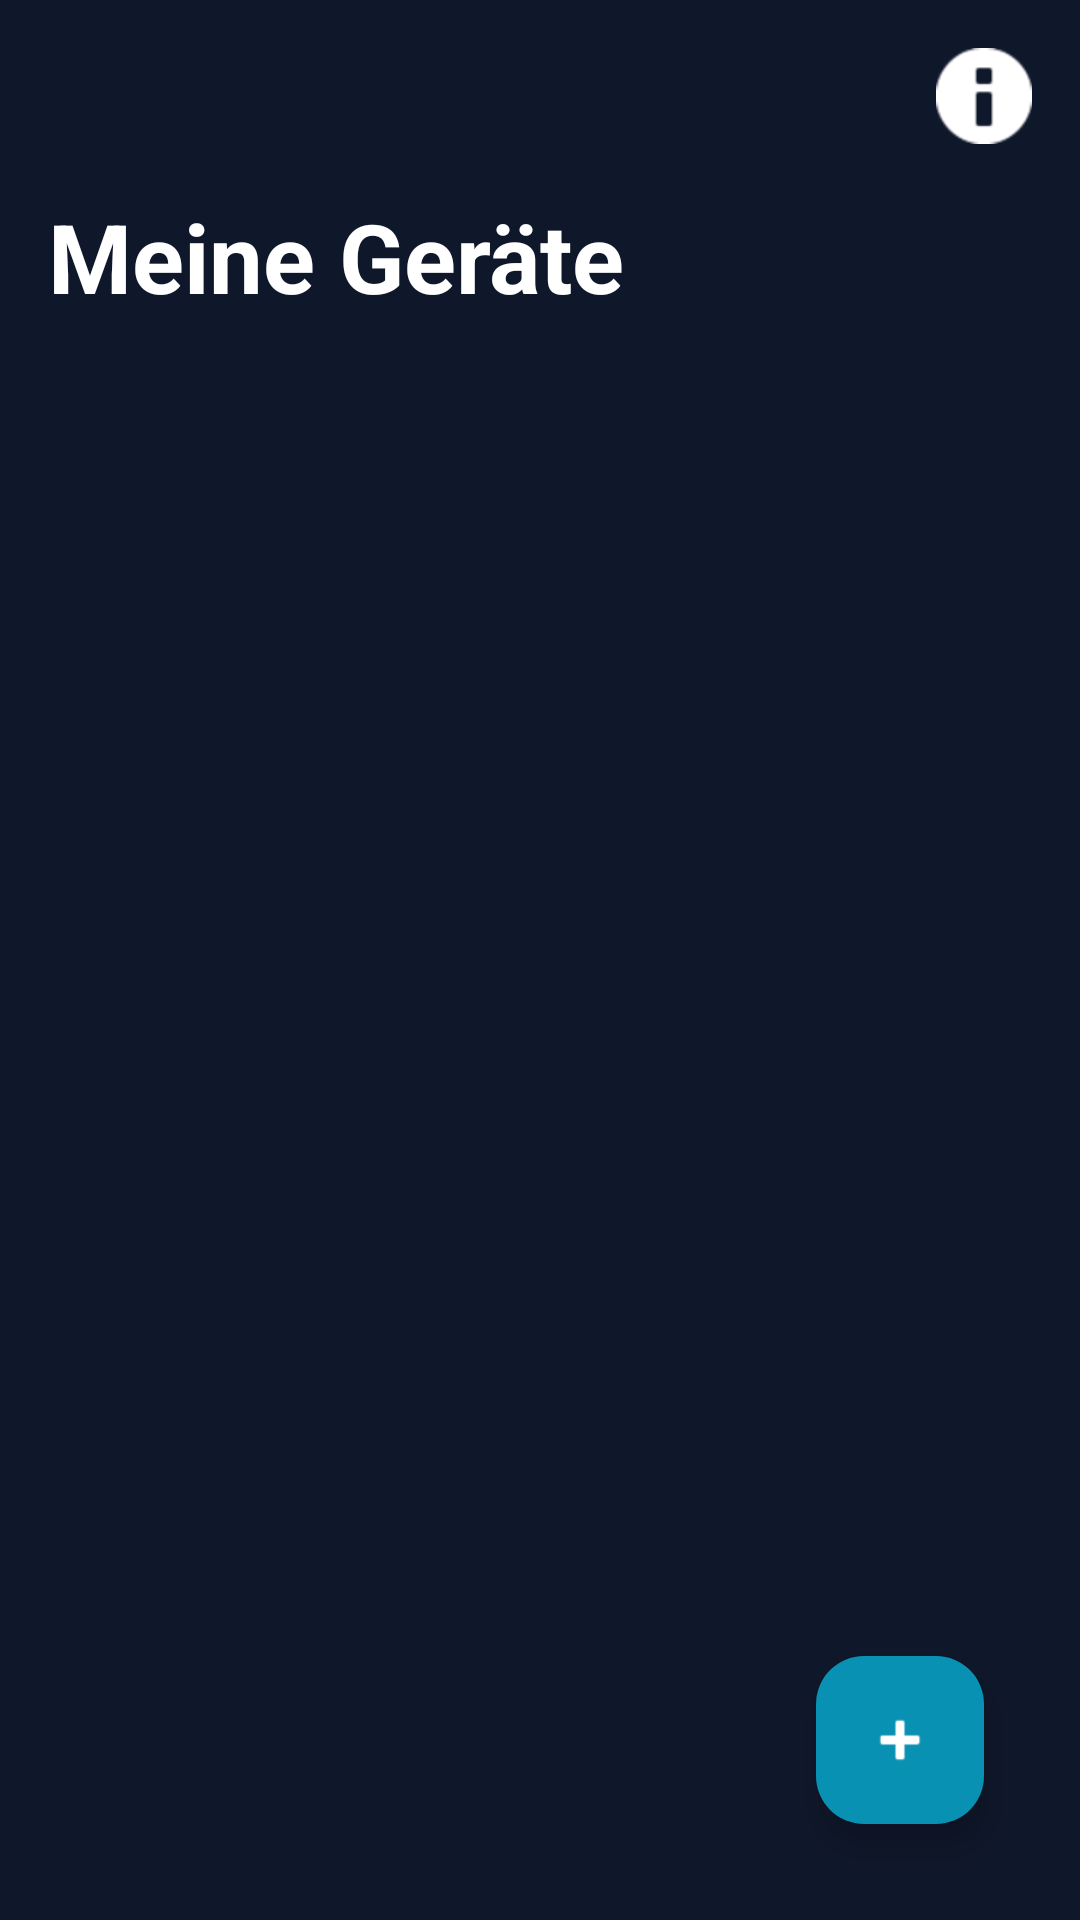

Point at icon controls on the screen. Image size 1080px x 1920px, points as [x,y].
add: [900,1740]
info: [984,96]
